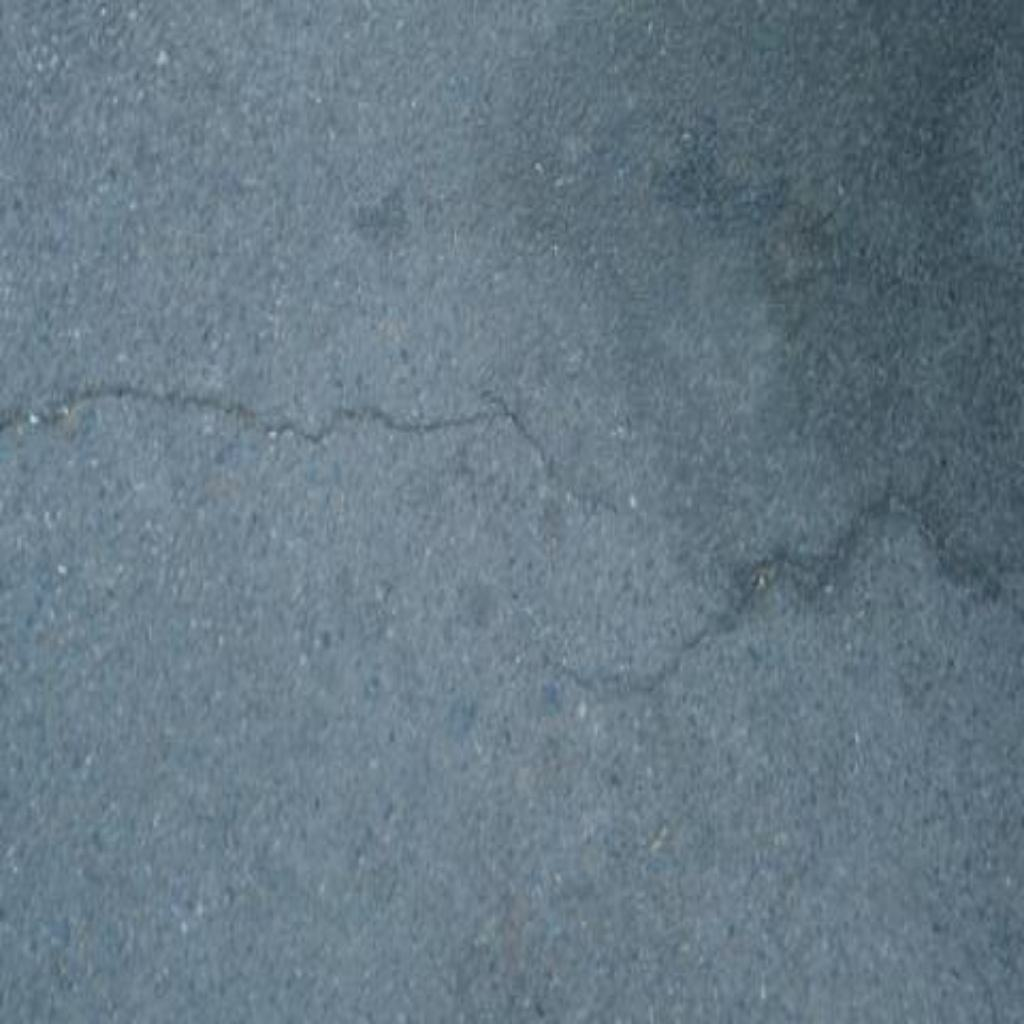Crack: (540, 481, 1024, 698), (1, 390, 621, 516)
